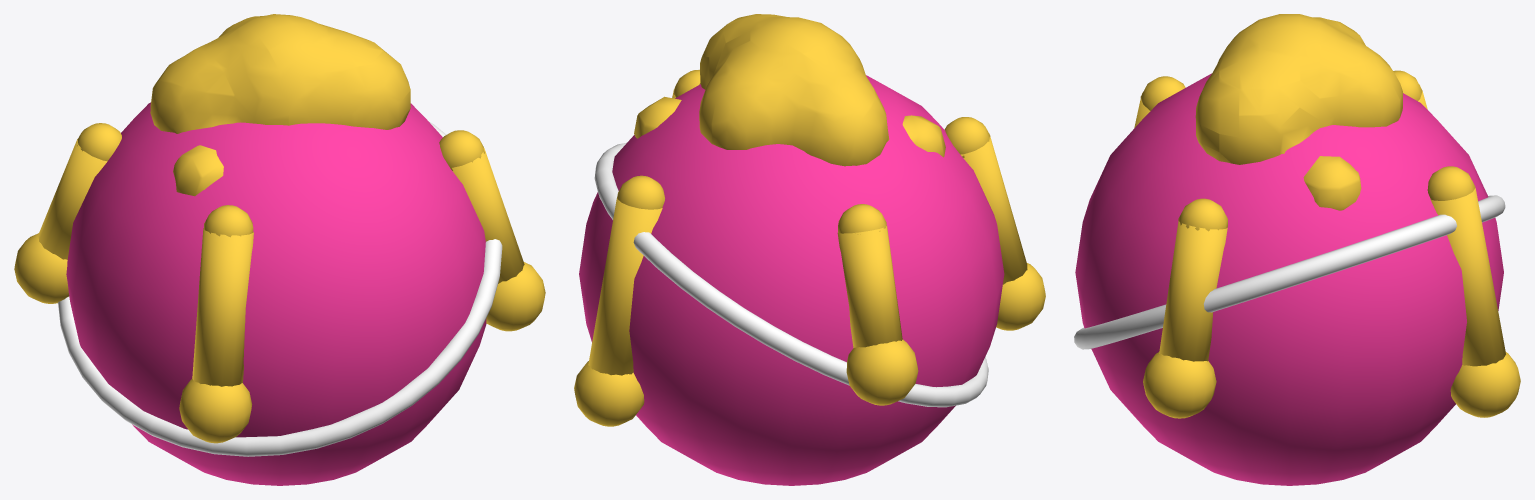
The model's file is paintball_v2.glb.
3 views of the same model, side by side, from view 1: azimuth 30°, elevation 25°; view 2: azimuth 150°, elevation 25°; view 3: azimuth 270°, elevation 25° (orthographic).
Parts seen in each view (by area): view 1: Ball, Splash crown, Seam, Drip 3, Drop 3, Drip 0, Drip 2, Drop 0, Drop 2, Drip 0 cap 0, Drip 3 cap 0, Drip 2 cap 0; view 2: Ball, Splash crown, Seam, Drip 1, Drip 2, Drop 2, Drop 1, Drip 3, Drop 3, Drip 1 cap 0, Drip 3 cap 0, Drip 2 cap 0; view 3: Ball, Splash crown, Seam, Drip 0, Drip 1, Drop 0, Drop 1, Drip 1 cap 0, Drip 0 cap 0, Drip 3 cap 0, Drip 2 cap 0.
Boxes of the visible parts, <box> form: Ball: <box>66,102,486,485</box>; Splash crown: <box>150,14,410,196</box>; Seam: <box>58,122,502,456</box>; Drip 3: <box>192,228,253,386</box>; Drop 3: <box>179,379,252,443</box>; Drip 0: <box>452,147,524,283</box>; Drip 2: <box>38,139,107,259</box>; Drop 0: <box>486,262,545,331</box>; Drop 2: <box>14,233,69,303</box>; Drip 0 cap 0: <box>439,130,484,170</box>; Drip 3 cap 0: <box>204,205,253,237</box>; Drip 2 cap 0: <box>77,123,121,161</box>; Ball: <box>579,75,1004,485</box>; Splash crown: <box>634,14,945,166</box>; Seam: <box>594,142,988,407</box>; Drip 1: <box>588,197,662,375</box>; Drip 2: <box>837,225,902,347</box>; Drop 2: <box>846,339,918,405</box>; Drop 1: <box>574,361,644,426</box>; Drip 3: <box>960,137,1027,284</box>; Drop 3: <box>996,263,1045,330</box>; Drip 1 cap 0: <box>617,175,664,209</box>; Drip 3 cap 0: <box>944,117,990,157</box>; Drip 2 cap 0: <box>838,204,886,234</box>; Ball: <box>1075,73,1503,485</box>; Splash crown: <box>1195,14,1402,210</box>; Seam: <box>1074,195,1505,349</box>; Drip 0: <box>1159,221,1227,361</box>; Drip 1: <box>1431,188,1505,366</box>; Drop 0: <box>1143,352,1216,418</box>; Drop 1: <box>1450,352,1520,417</box>; Drip 1 cap 0: <box>1427,166,1475,200</box>; Drip 0 cap 0: <box>1178,198,1227,231</box>; Drip 3 cap 0: <box>1140,76,1185,110</box>; Drip 2 cap 0: <box>1393,70,1422,100</box>.
Size of the model in its own units: 0.6868 by 0.7331 by 0.667.
